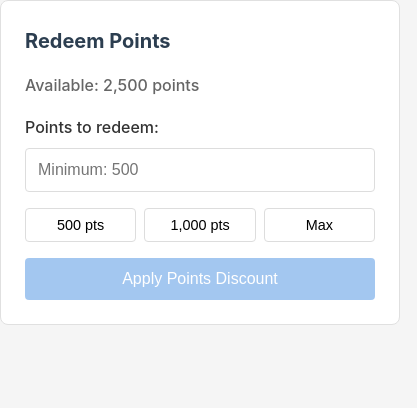
Test: PointRedemptionForm › should handle max quick redeem
The width and height of the screenshot is (417, 408).
Click the button "Max" at (319, 225), box [264,208,375,242]
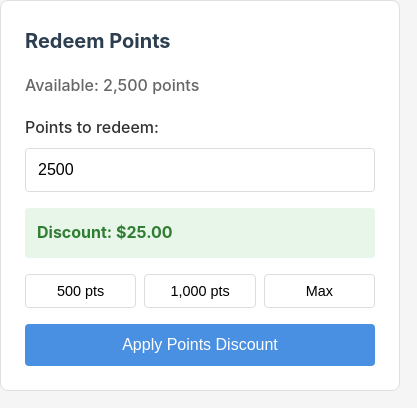
expect the number field labelled "Points to redeem:" holds "2500": met, box [25,148,375,192]
